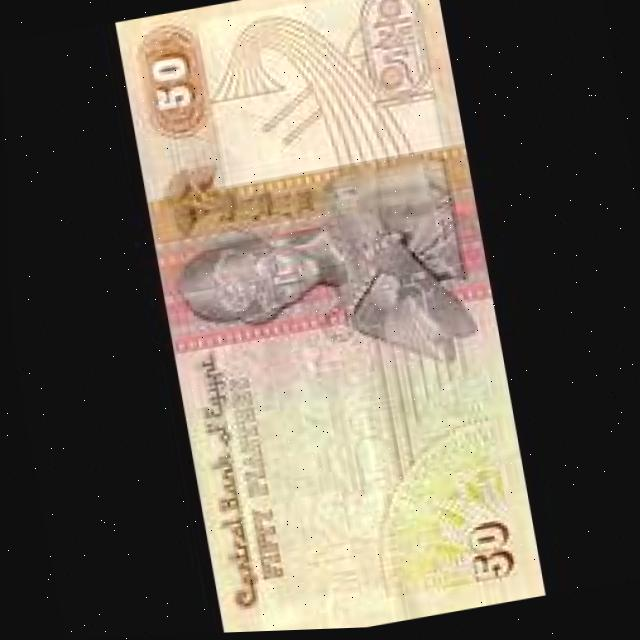banknote: (111, 0, 541, 637)
